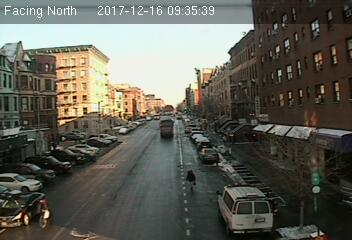bicycle: (37, 198, 58, 231)
car: (1, 193, 47, 226), (198, 148, 219, 164)
pedestrian: (187, 166, 197, 191)
police: (213, 179, 275, 235)
